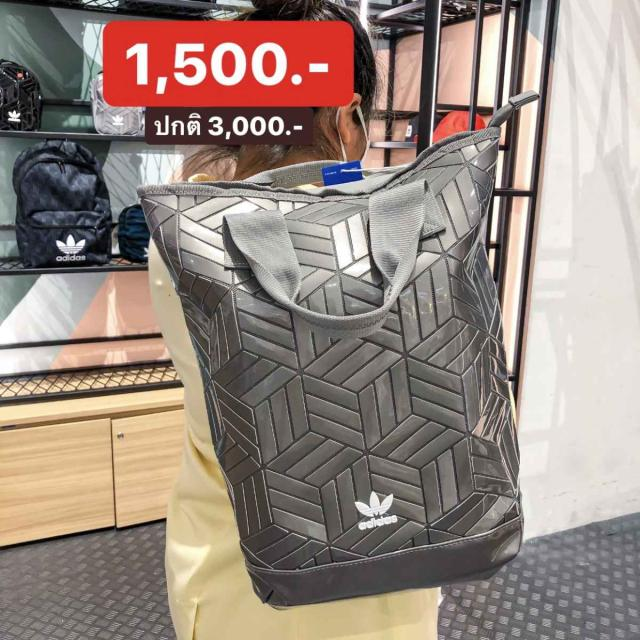Handbag: (139, 120, 538, 608)
